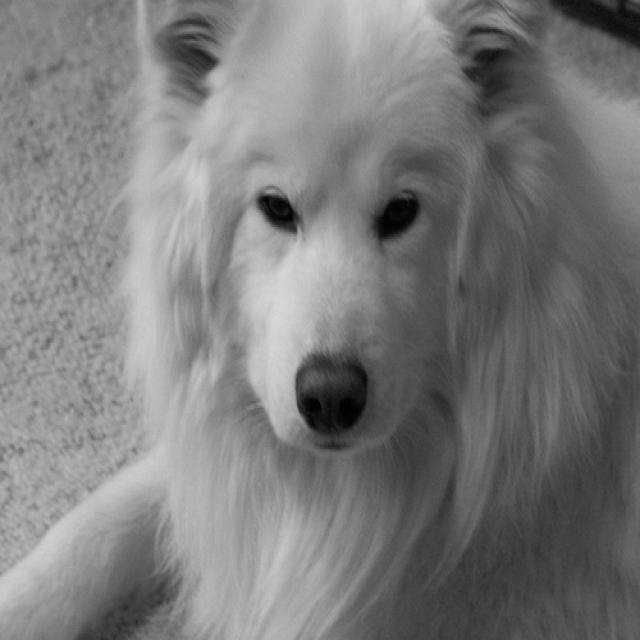dog-samoyed: (1, 2, 637, 637)
